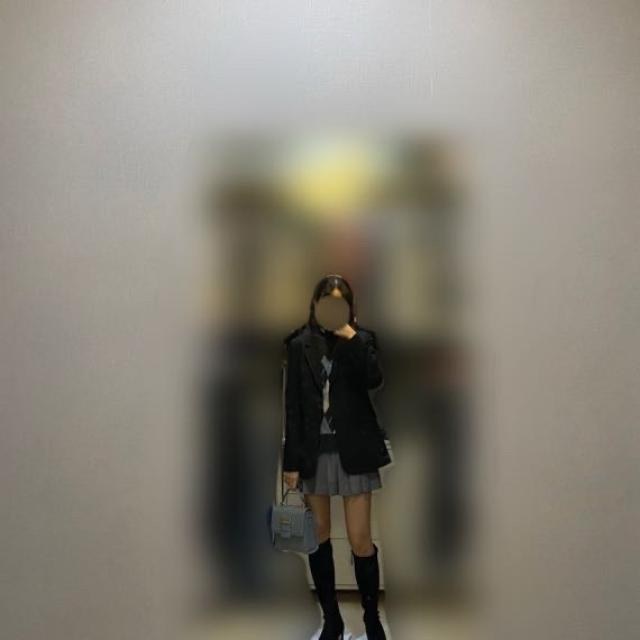blazer: (282, 318, 390, 476)
skirt: (295, 407, 383, 500)
